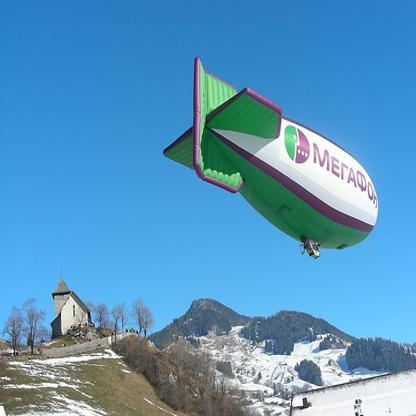Airship: (163, 56, 383, 261)
